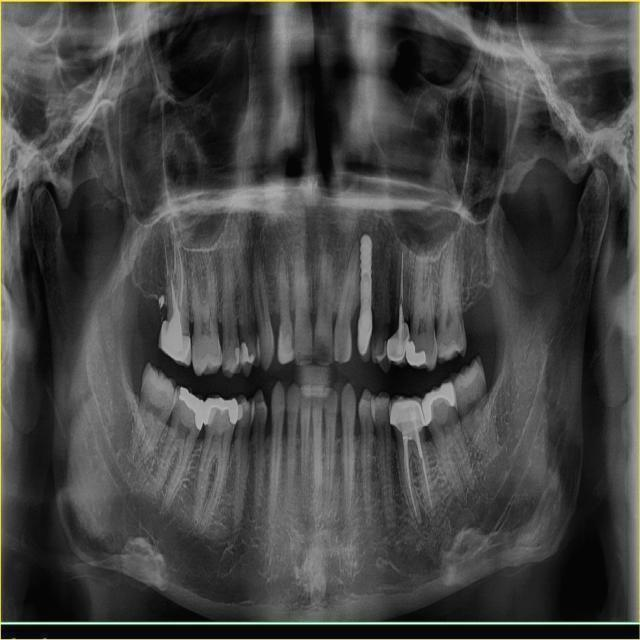dolgu: (172, 388, 209, 432), (202, 388, 239, 430), (406, 334, 437, 370), (230, 339, 256, 368)
implant: (352, 232, 376, 359)
kanal-tedavisi: (396, 437, 435, 518), (156, 237, 189, 307), (389, 243, 412, 323)
kaplama: (418, 379, 458, 424), (389, 393, 424, 436), (158, 319, 192, 362), (388, 320, 408, 364)
